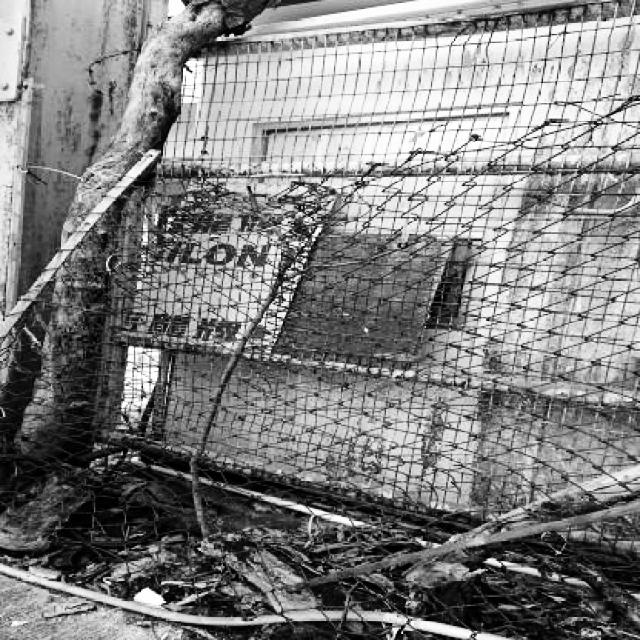anomaly-fence: (0, 2, 502, 610)
